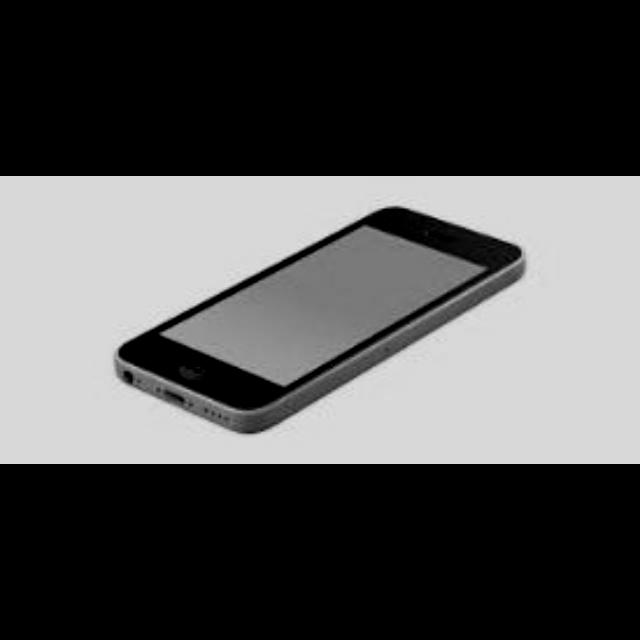fake: (106, 209, 526, 411)
